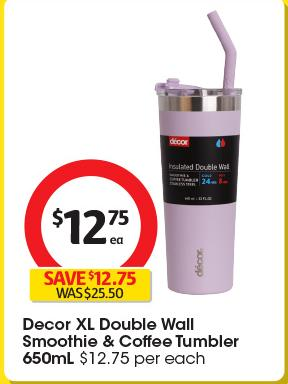description_block: (15, 315, 242, 372)
price_main: (19, 168, 153, 265)
product_image_block: (138, 6, 264, 311)
promo_text_block: (20, 266, 155, 307)
unit_price_block: (77, 348, 214, 370)
